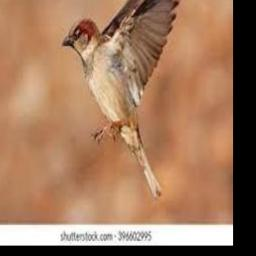Sparrow: (61, 0, 183, 197)
